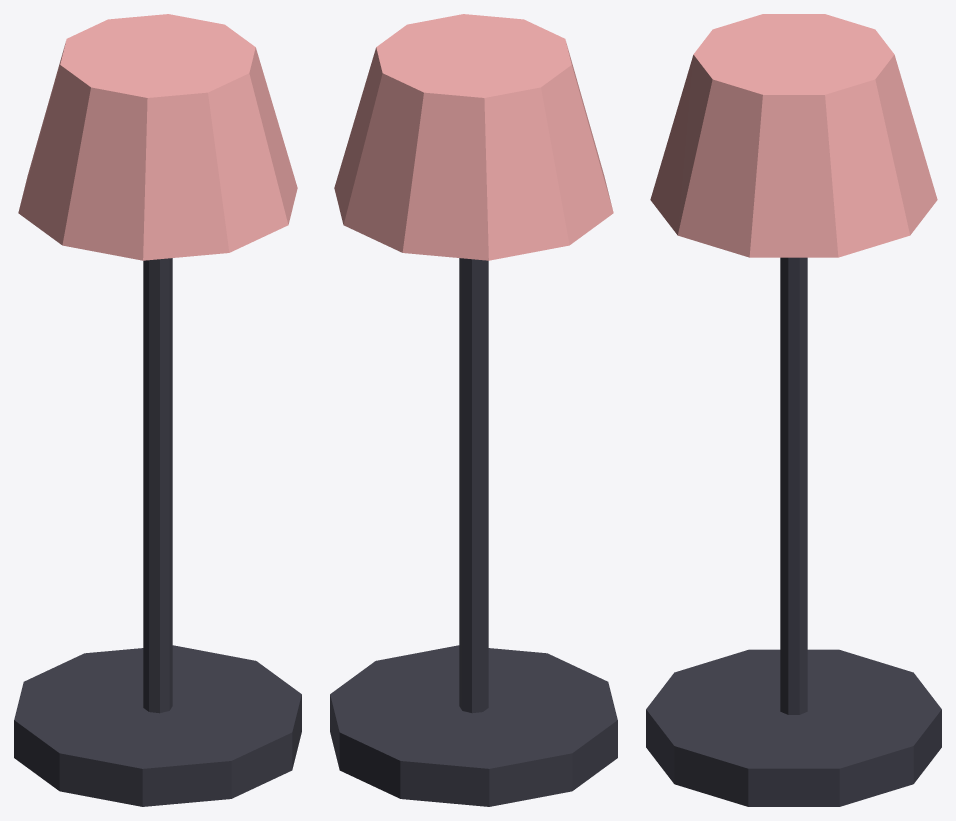
Rendered from light-floor.obj.
3 renders of one model, left to right at view 1: azimuth 30°, elevation 25°; view 2: azimuth 150°, elevation 25°; view 3: azimuth 270°, elevation 25°, orthographic.
Parts seen in each view (by area): view 1: soft-floor-shade, floor-lamp-base, tall-lamp-pole; view 2: soft-floor-shade, floor-lamp-base, tall-lamp-pole; view 3: soft-floor-shade, floor-lamp-base, tall-lamp-pole.
Part boxes in pixels (box(x1,y1,x2,y2)): soft-floor-shade: box(18, 14, 297, 260); floor-lamp-base: box(14, 645, 301, 806); tall-lamp-pole: box(143, 258, 172, 713); soft-floor-shade: box(334, 14, 613, 260); floor-lamp-base: box(330, 645, 617, 806); tall-lamp-pole: box(459, 258, 488, 713); soft-floor-shade: box(650, 14, 937, 257); floor-lamp-base: box(646, 649, 941, 806); tall-lamp-pole: box(780, 257, 807, 714).
Size of the model in its own units: 0.6658 by 1.81 by 0.7.
